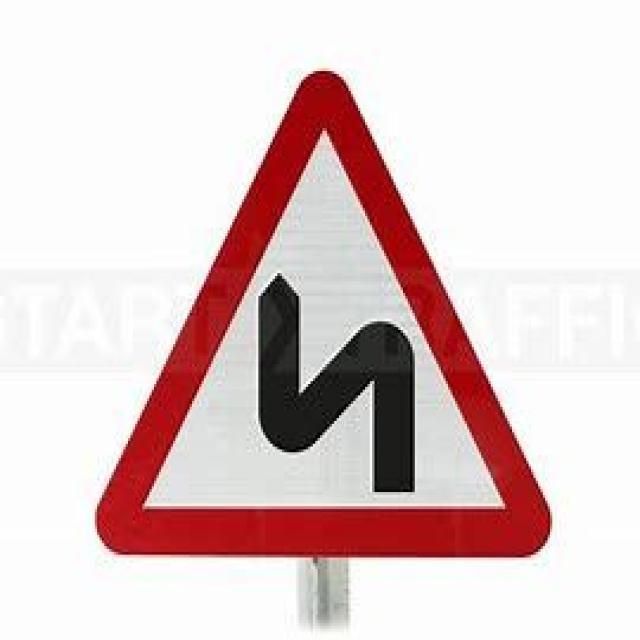left reverse bend: (86, 64, 559, 569)
